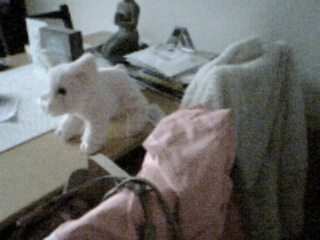piggy: (35, 48, 151, 155)
